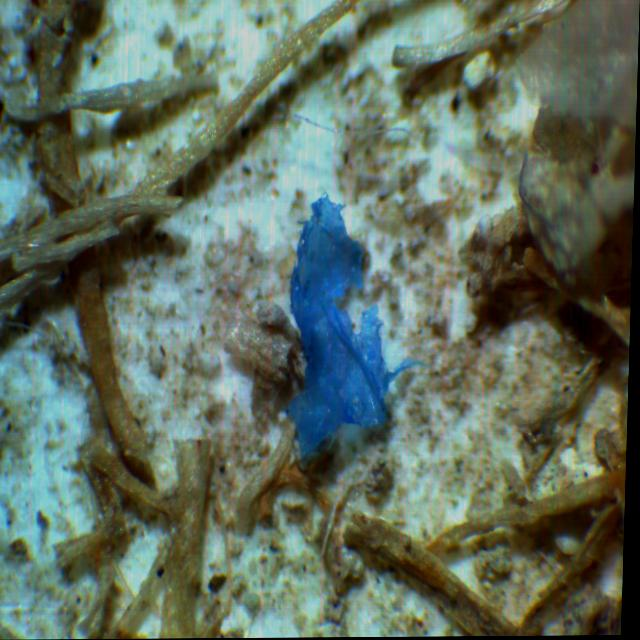microplastic: (285, 196, 420, 471)
